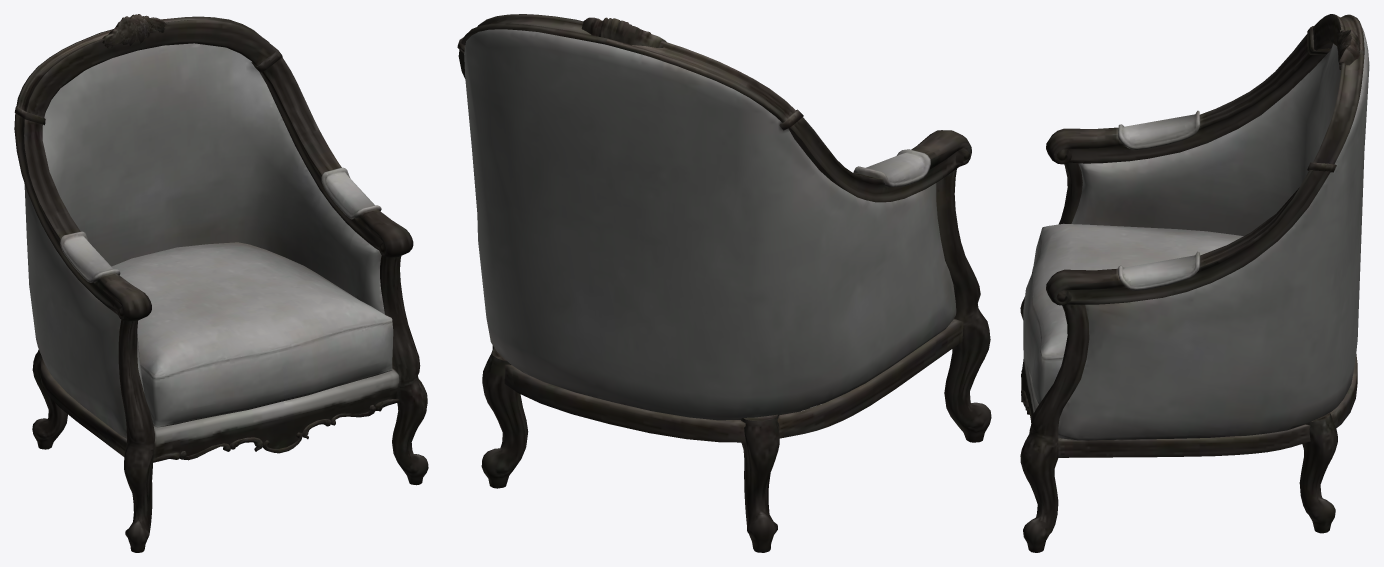
The model's file is ArmChair_01.glb.
3 renders of one model, left to right at view 1: azimuth 30°, elevation 25°; view 2: azimuth 150°, elevation 25°; view 3: azimuth 270°, elevation 25°, orthographic. The views are drawn at different scales.
Parts seen in each view (by area): view 1: ArmChair_01; view 2: ArmChair_01; view 3: ArmChair_01.
Boxes of the visible parts, left/top/right/bottom form: ArmChair_01: left=14, top=14, right=428, bottom=552; ArmChair_01: left=457, top=14, right=991, bottom=552; ArmChair_01: left=1020, top=14, right=1369, bottom=552.
Size of the model in its own units: 0.8485 by 1.07 by 0.7658.
1 material, 1 textured.
